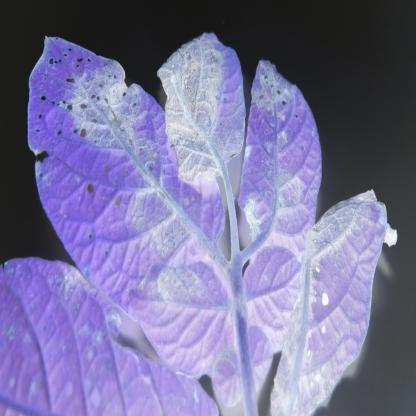Potato leaf late blight: (26, 29, 246, 388), (1, 250, 233, 416), (275, 189, 401, 416), (236, 54, 322, 261), (158, 29, 247, 189)
